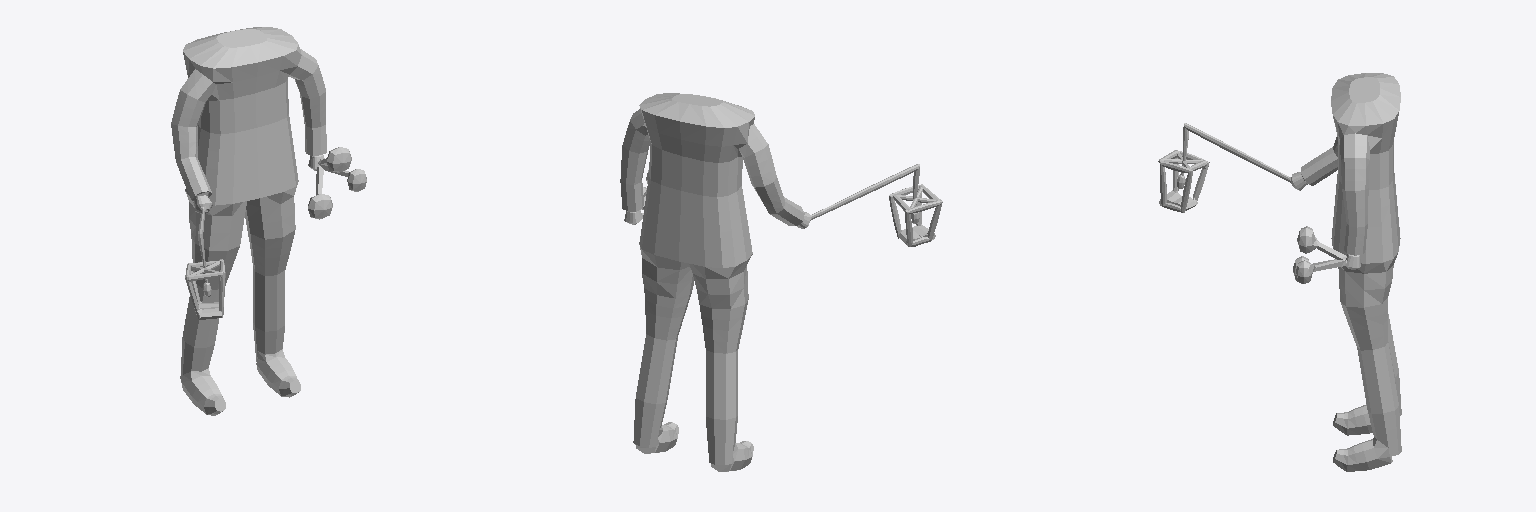
File: player.obj
3 renders of one model, left to right at view 1: azimuth 30°, elevation 25°; view 2: azimuth 150°, elevation 25°; view 3: azimuth 270°, elevation 25°, orthographic.
Visible parts, largest first — view 1: Mesh_0; view 2: Mesh_0; view 3: Mesh_0.
Part boxes in pixels (bbox=[...]): Mesh_0: bbox=[171, 27, 366, 415]; Mesh_0: bbox=[620, 93, 942, 471]; Mesh_0: bbox=[1158, 73, 1401, 471].
Bounding box in the file's own units: 0.536 × 0.7614 × 0.4608.